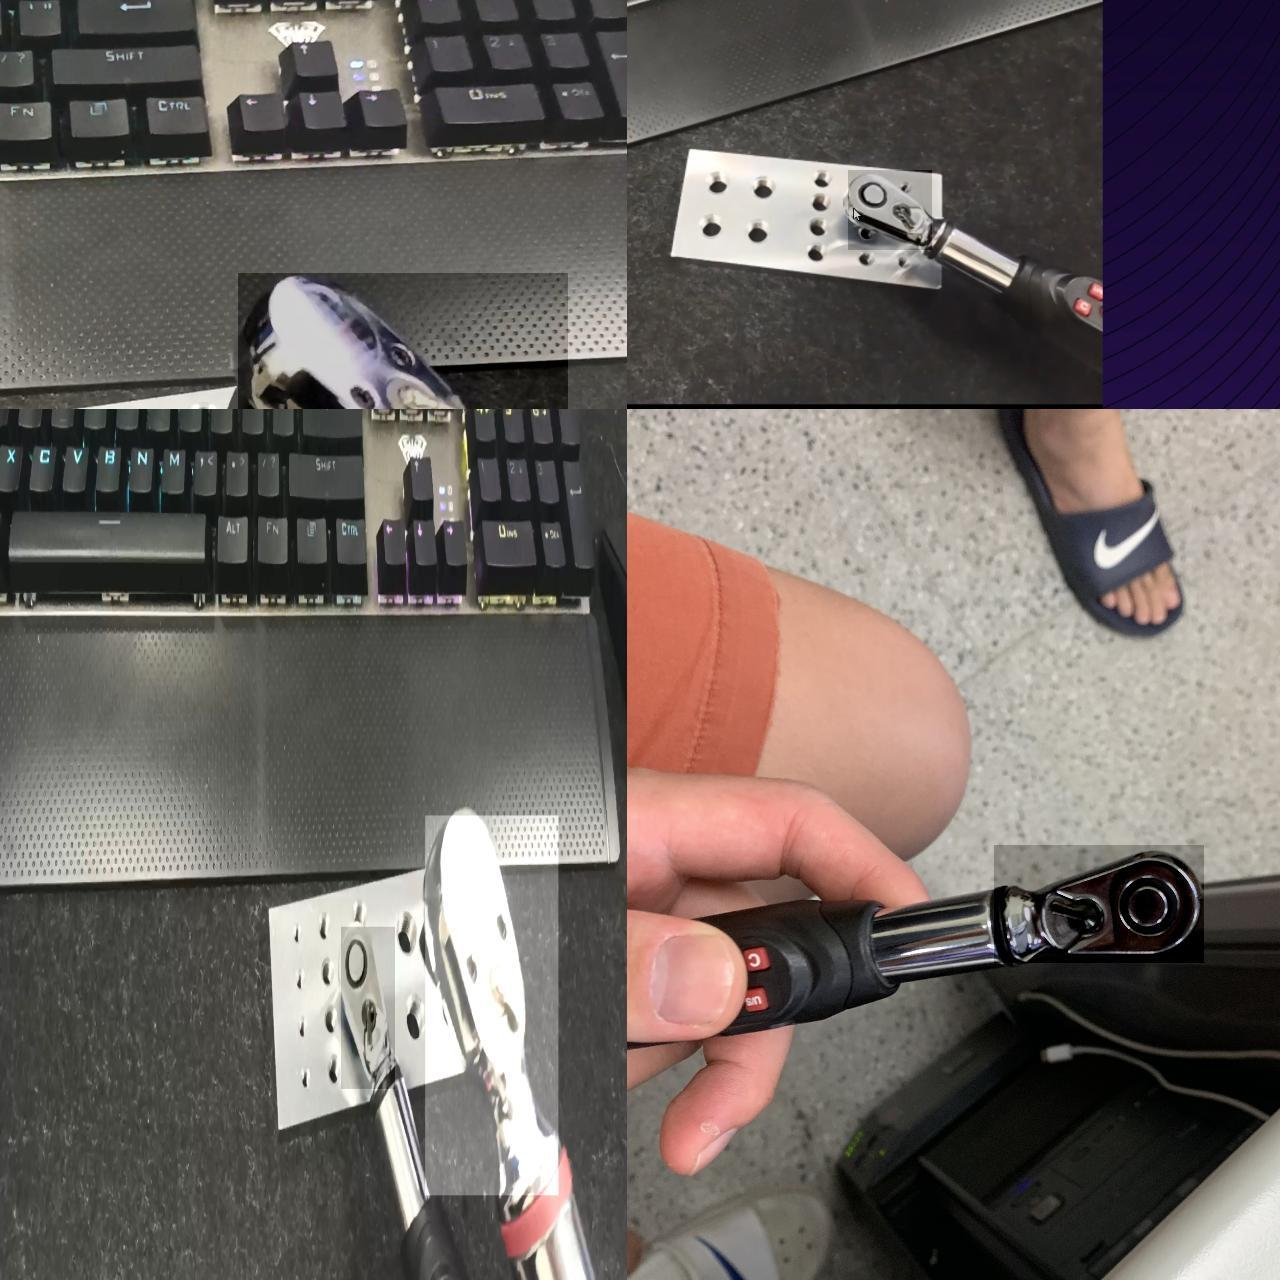Tool: (425, 816, 558, 1196), (238, 273, 568, 409), (994, 845, 1204, 964), (341, 927, 395, 1089), (847, 170, 932, 250)
